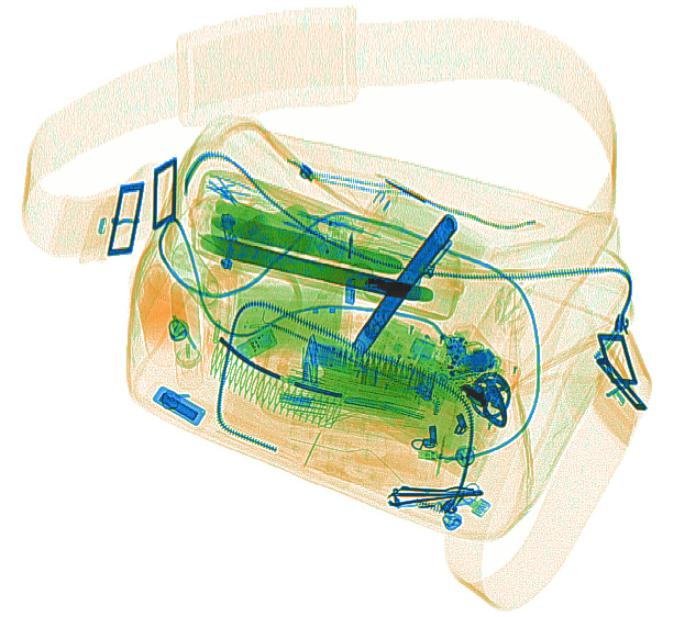USBFlashDisk: (232, 326, 280, 363)
plasticBottleWithaNozzle: (201, 257, 242, 379)
pressure: (169, 242, 232, 321), (166, 280, 204, 396)
